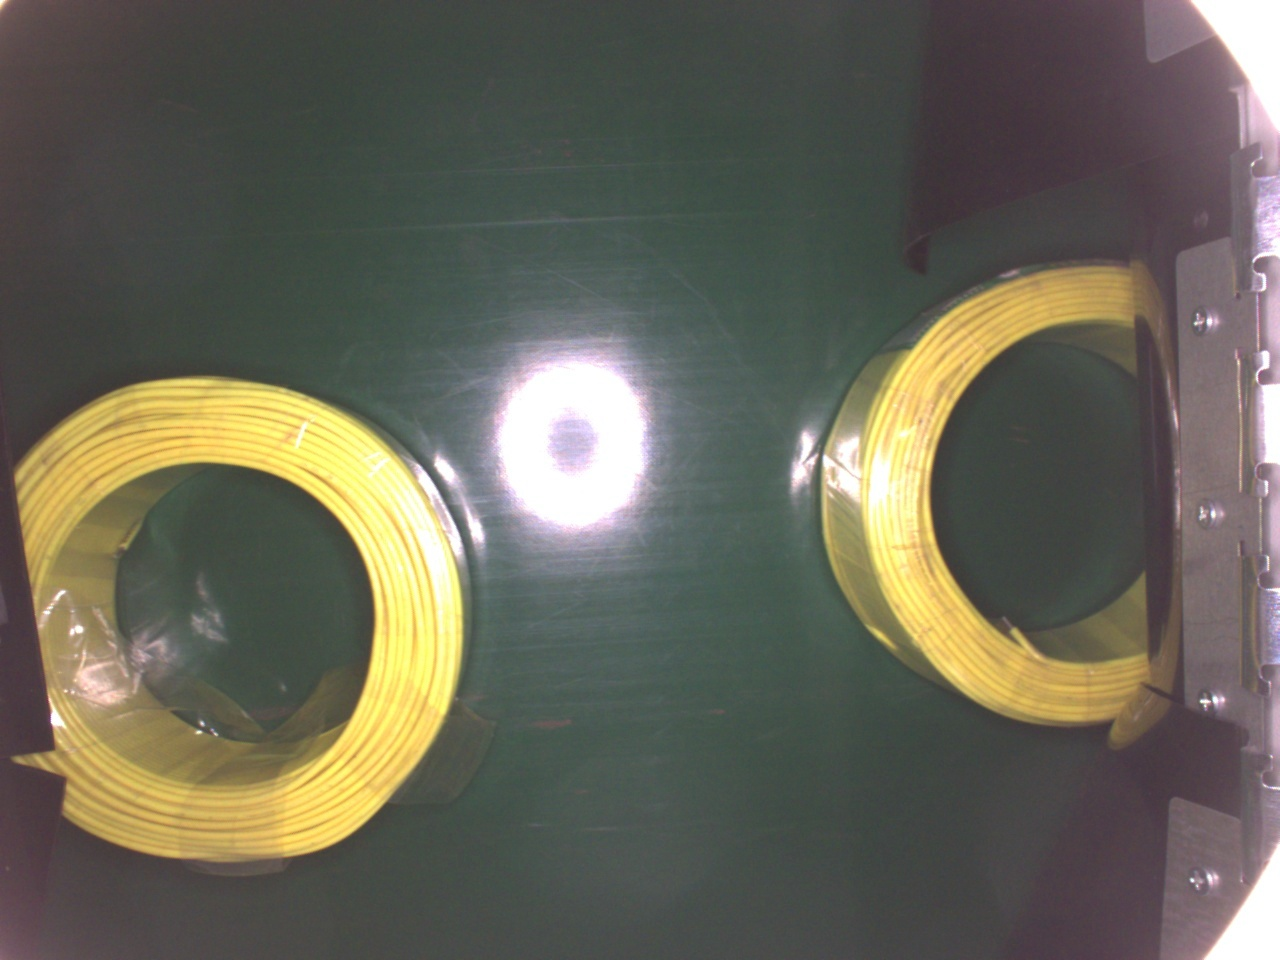yellow: (10, 377, 473, 875), (815, 249, 1155, 727)
